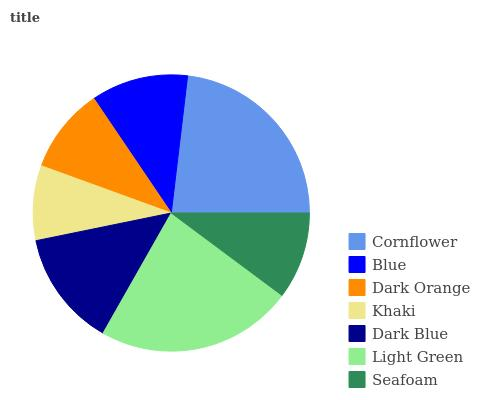legend: (336, 226, 480, 400)
sector: (99, 212, 282, 352), (169, 76, 309, 214), (36, 211, 167, 333), (39, 98, 171, 213), (95, 73, 190, 211), (170, 211, 312, 297), (31, 166, 173, 239)
